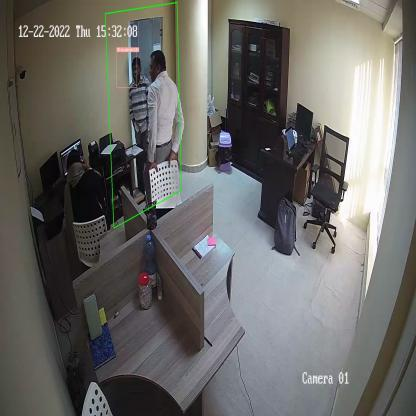no_apron: (129, 80, 148, 136)
